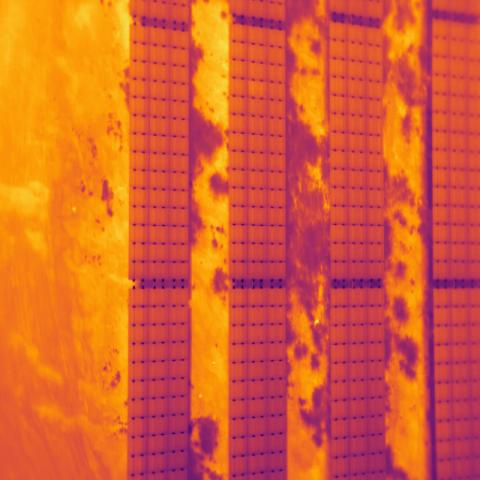fault: (250, 78, 269, 99)
